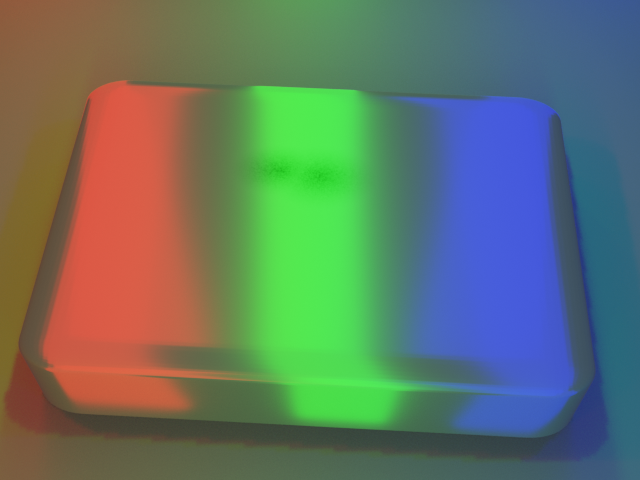stain: (191, 113, 400, 225)
